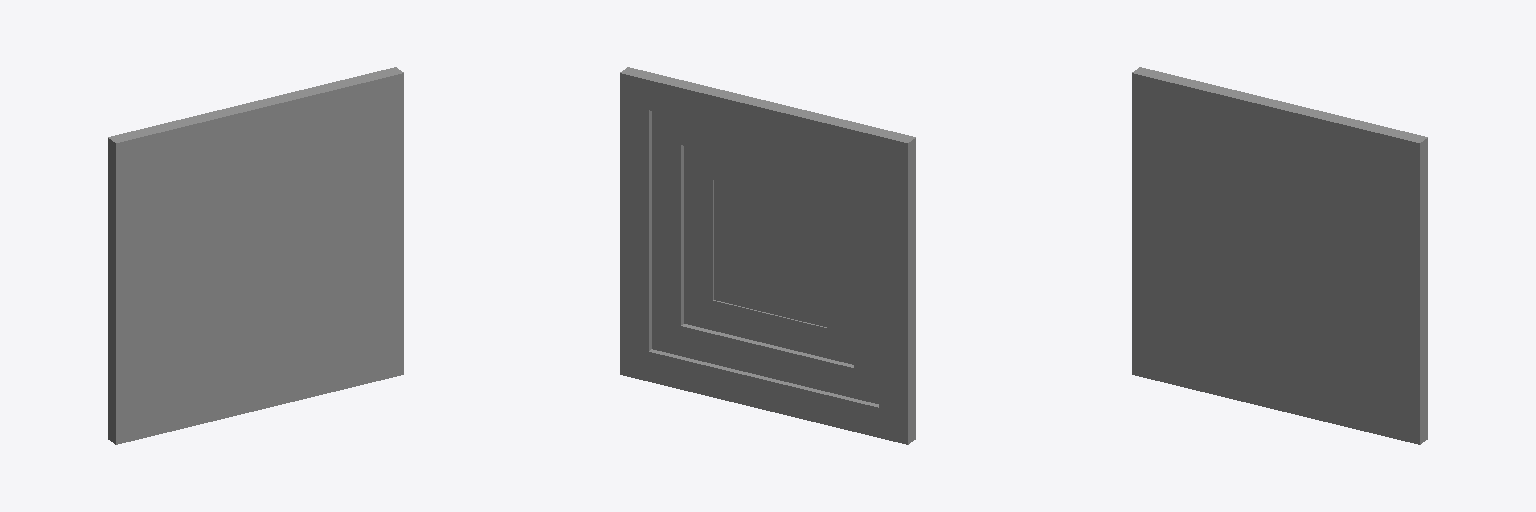
File: walls.obj
The picture shows the model from 3 angles: view 1: azimuth 30°, elevation 25°; view 2: azimuth 150°, elevation 25°; view 3: azimuth 330°, elevation 25°; orthographic projection.
Visible parts, largest first — view 1: Cube; view 2: Cube; view 3: Cube.
Part boxes in pixels (x1,y1,x2,y2): Cube: (108, 67, 403, 444); Cube: (620, 67, 915, 444); Cube: (1132, 67, 1427, 444).
Bounding box in the file's own units: 1 × 1 × 0.05.